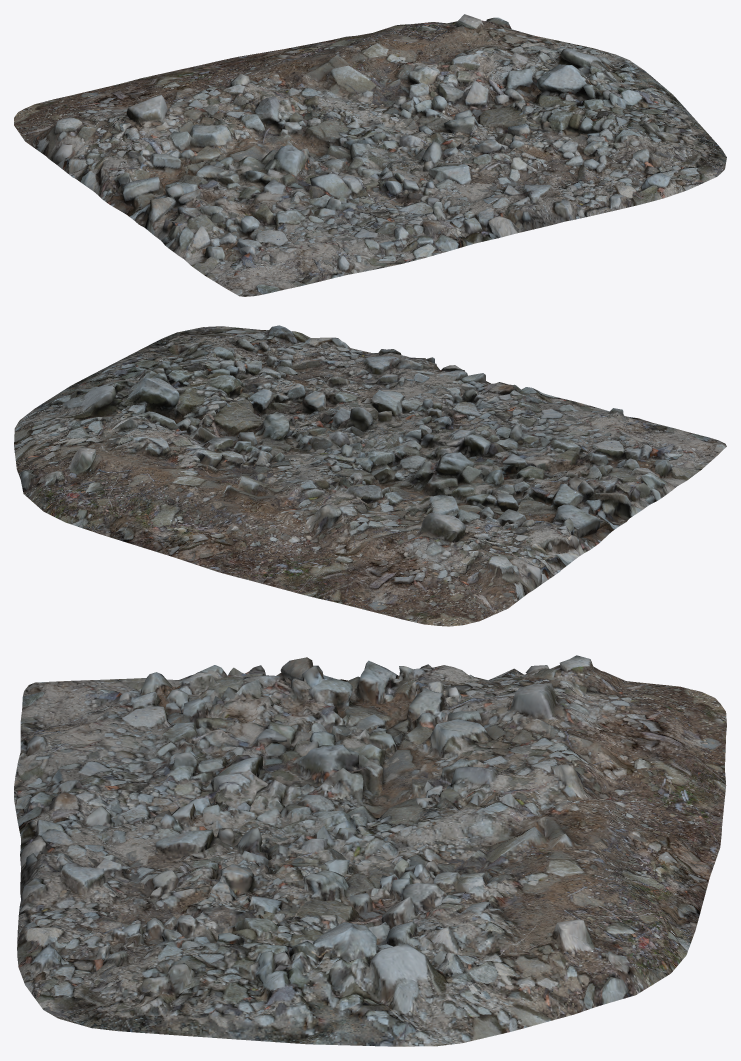
The model's file is sm_Road_01_03.fbx.
3 renders of one model, top to bottom at view 1: azimuth 30°, elevation 25°; view 2: azimuth 150°, elevation 25°; view 3: azimuth 270°, elevation 25°, orthographic. The views are drawn at different scales.
Parts seen in each view (by area): view 1: sm_Road_01_03_LOD0; view 2: sm_Road_01_03_LOD0; view 3: sm_Road_01_03_LOD0.
Part boxes in pixels (x1,y1,x2,y2): sm_Road_01_03_LOD0: [14, 14, 726, 296]; sm_Road_01_03_LOD0: [14, 325, 726, 626]; sm_Road_01_03_LOD0: [14, 655, 726, 1046].
Size of the model in its own units: 251 by 206 by 19.42.
